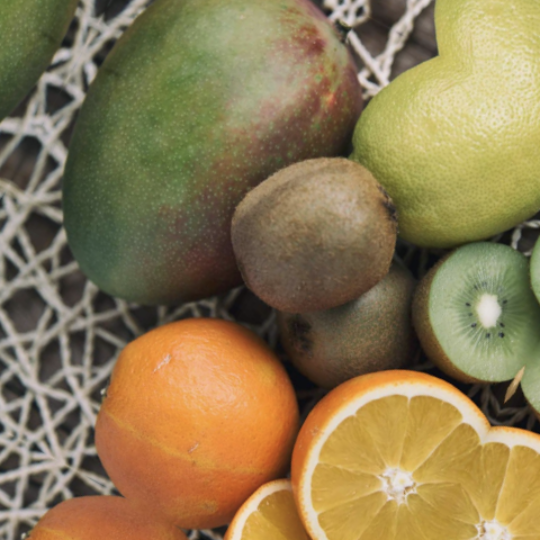kiwi: (0, 0, 405, 393), (197, 121, 427, 347)
orange: (54, 272, 333, 540)
